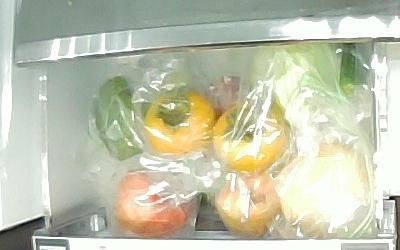apple_vinyl: (113, 166, 194, 236)
broccoli_vinyl: (94, 72, 190, 165)
grapefruit_vinyl: (276, 140, 372, 232)
lettuce_vinyl: (256, 43, 338, 94)
peach_vinyl: (215, 174, 278, 236)
persimmon_vinyl: (211, 103, 290, 172), (143, 90, 218, 156)
